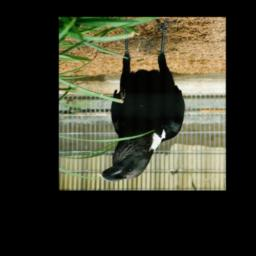Crow: (97, 18, 185, 182)
